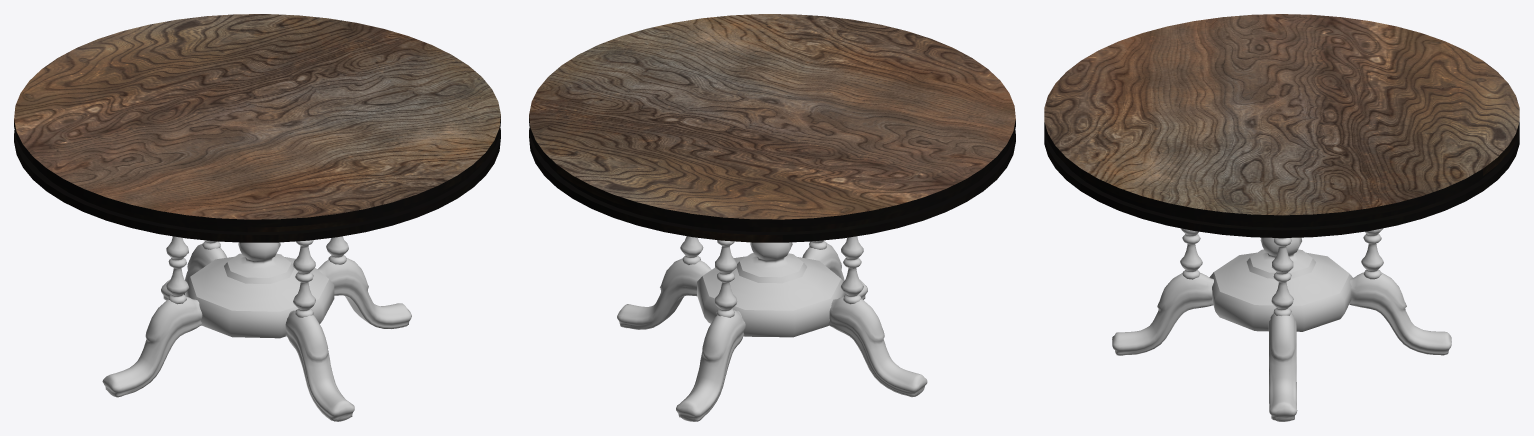
File: Table.fbx
3 renders of one model, left to right at view 1: azimuth 30°, elevation 25°; view 2: azimuth 150°, elevation 25°; view 3: azimuth 270°, elevation 25°, orthographic. The views are drawn at different scales.
Parts seen in each view (by area): view 1: pCylinder21, TableMidLow:Group1, Group4, Group6, Group8, Group5, Group3, TableLegLow:Group1, Group7; view 2: pCylinder21, TableMidLow:Group1, Group4, TableLegLow:Group1, Group8, ZTableArmLow:Group1, Group3, Group6, Group7; view 3: pCylinder21, TableMidLow:Group1, TableLegLow:Group1, Group6, Group8, Group7, Group5, ZTableArmLow:Group1.
Part boxes in pixels (<box>): pCylinder21: <box>14,14,500,242</box>; TableMidLow:Group1: <box>185,242,334,338</box>; Group4: <box>102,296,202,397</box>; Group6: <box>285,310,354,421</box>; Group8: <box>317,258,411,328</box>; Group5: <box>293,240,315,317</box>; Group3: <box>166,236,188,304</box>; TableLegLow:Group1: <box>161,243,226,300</box>; Group7: <box>326,236,348,264</box>; pCylinder21: <box>529,14,1015,242</box>; TableMidLow:Group1: <box>697,242,845,337</box>; Group4: <box>828,296,927,397</box>; TableLegLow:Group1: <box>676,310,745,421</box>; Group8: <box>617,258,711,329</box>; ZTableArmLow:Group1: <box>714,240,737,317</box>; Group3: <box>841,236,863,304</box>; Group6: <box>802,243,867,299</box>; Group7: <box>680,236,703,265</box>; pCylinder21: <box>1044,14,1519,237</box>; TableMidLow:Group1: <box>1209,237,1352,331</box>; TableLegLow:Group1: <box>1349,272,1451,355</box>; Group6: <box>1112,273,1213,355</box>; Group8: <box>1268,313,1297,421</box>; Group7: <box>1271,238,1293,315</box>; Group5: <box>1180,228,1202,279</box>; ZTableArmLow:Group1: <box>1361,228,1383,279</box>.
Size of the model in its own units: 4.52 by 2.49 by 4.51.
